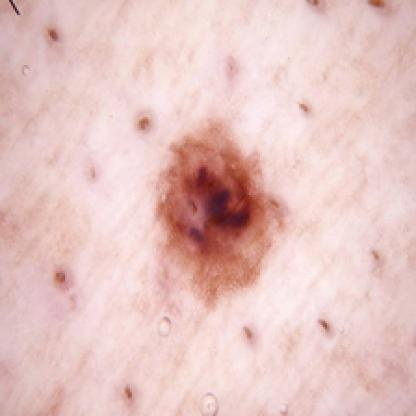benign: (128, 100, 303, 301)
